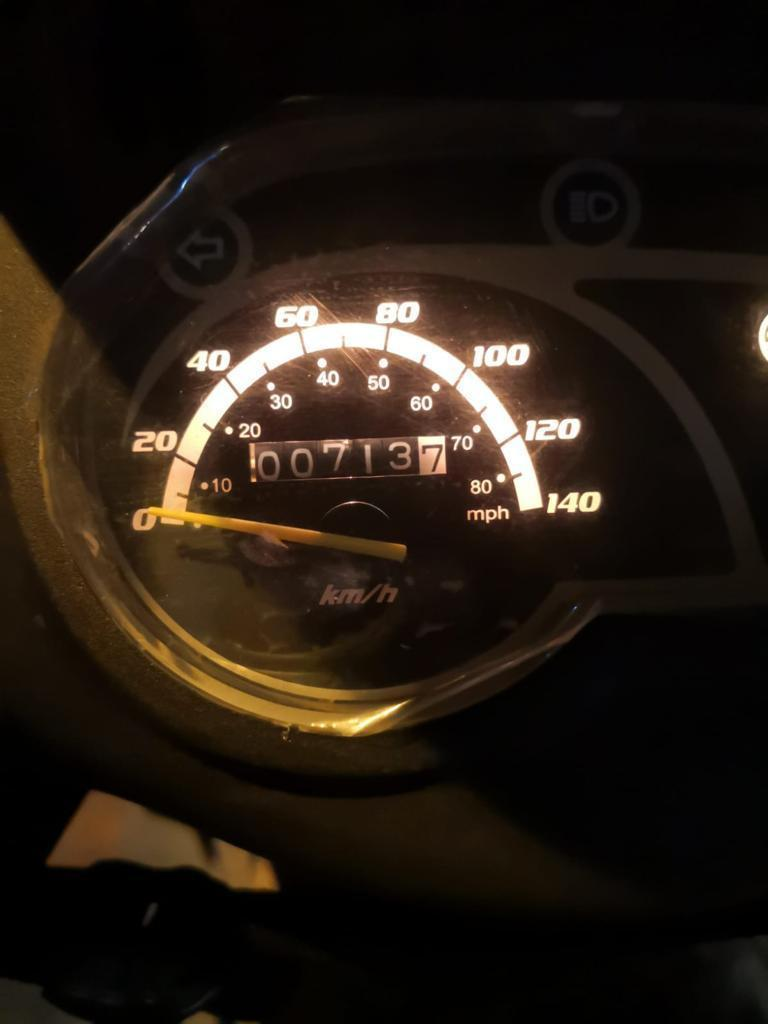0: (289, 447, 314, 478), (257, 450, 280, 481)
1: (363, 443, 372, 474)
3: (387, 441, 412, 470)
7: (322, 442, 346, 472), (421, 444, 443, 472)
odometer: (246, 434, 448, 485)
